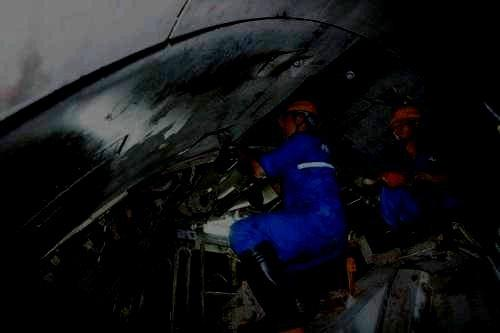helmet: (275, 99, 316, 141), (390, 107, 422, 142)
